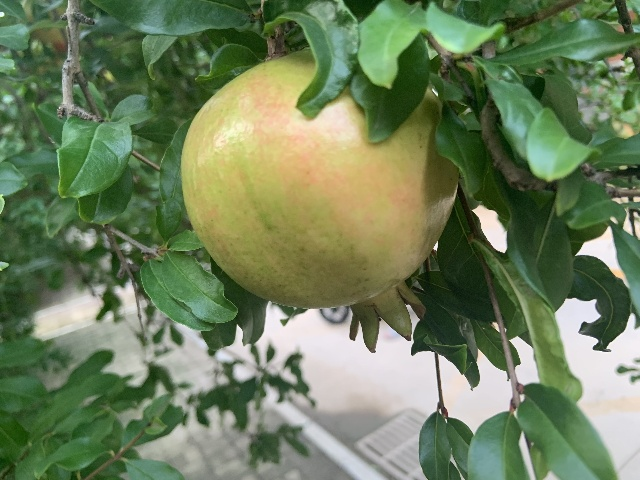mid-growth: (182, 48, 459, 353)
